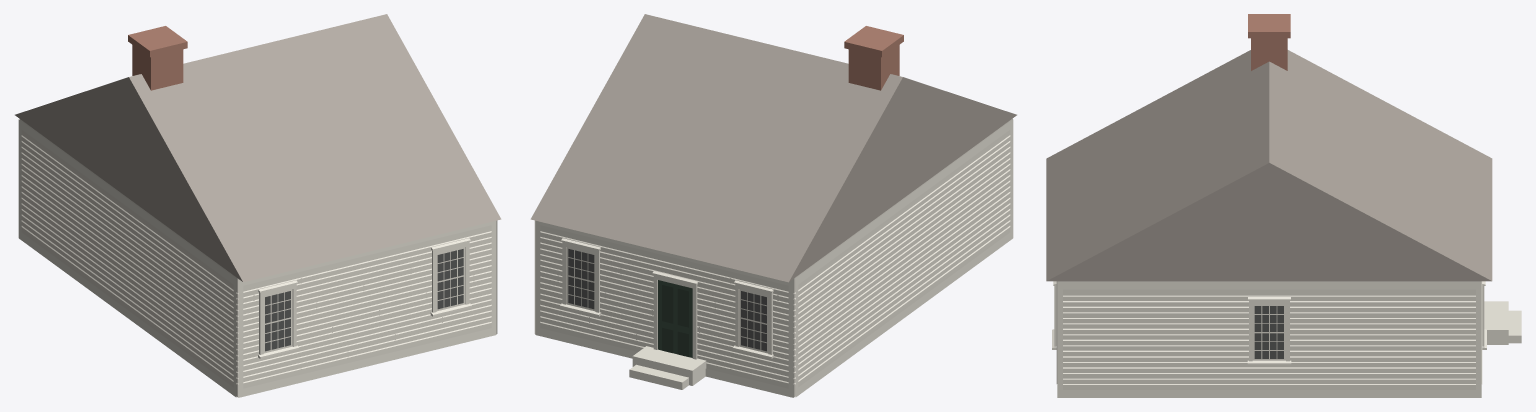
Rendered from recon_1835_west_033__inferred_1835.glb.
The picture shows the model from 3 angles, left to right: view 1: azimuth 30°, elevation 25°; view 2: azimuth 150°, elevation 25°; view 3: azimuth 270°, elevation 25°; orthographic projection. The views are drawn at different scales.
Parts seen in each view (by area): view 1: recon_1835_west_033__inferred_1835; view 2: recon_1835_west_033__inferred_1835; view 3: recon_1835_west_033__inferred_1835.
Part boxes in pixels (<box>): recon_1835_west_033__inferred_1835: <box>15,14,501,397</box>; recon_1835_west_033__inferred_1835: <box>530,14,1016,397</box>; recon_1835_west_033__inferred_1835: <box>1046,14,1521,397</box>.
Size of the model in its own units: 6.84 by 6.73 by 10.92.
